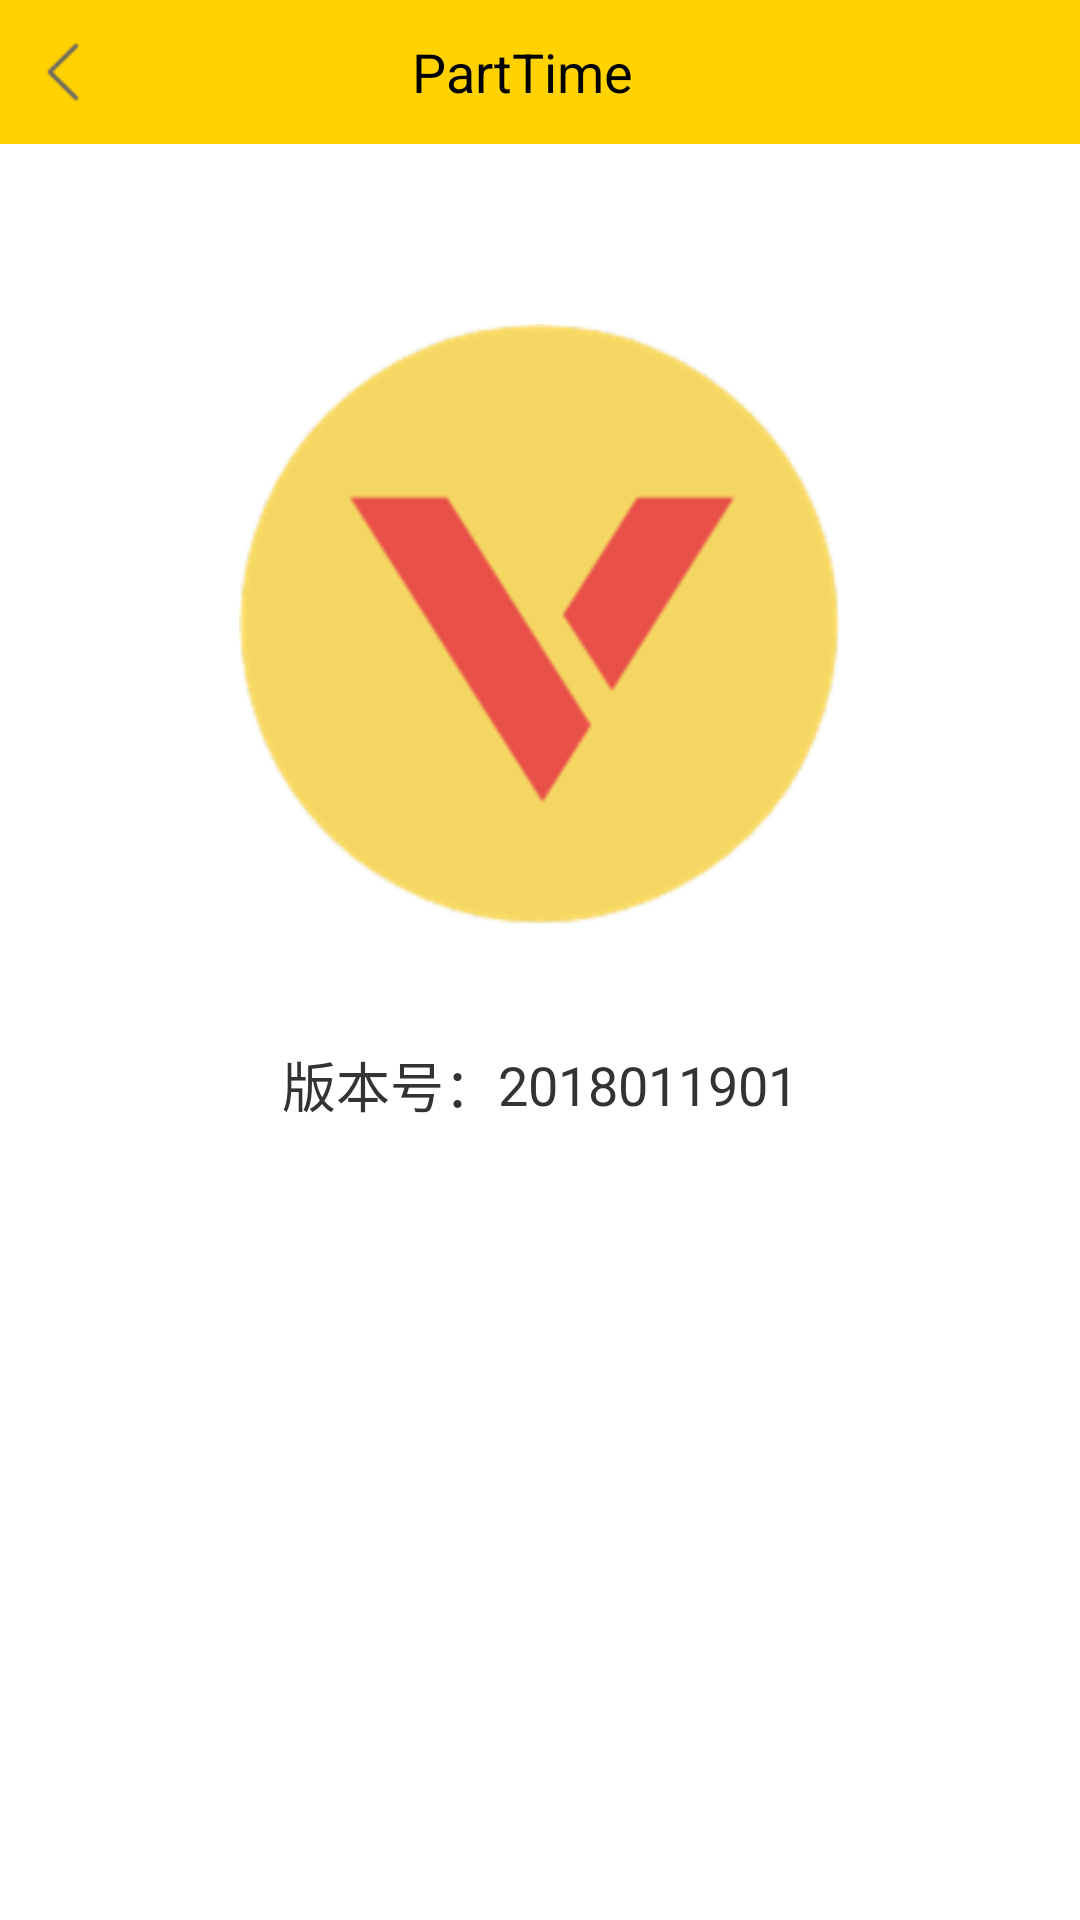

Screen size 1080×1920. Icon name, then its center in pixels as (x,y):
back: (63,72)
